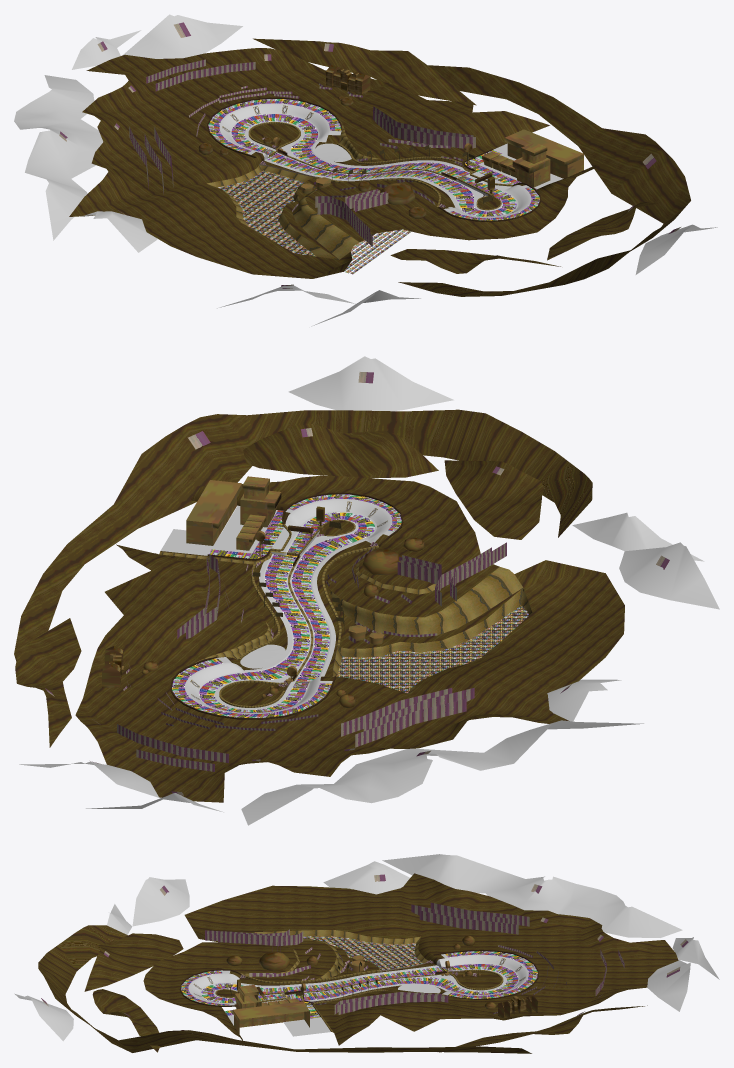
The picture shows the model from 3 angles, top to bottom: view 1: azimuth 30°, elevation 25°; view 2: azimuth 150°, elevation 25°; view 3: azimuth 270°, elevation 25°; orthographic projection. The views are drawn at different scales.
Visible parts, largest first — view 1: default_object (×26); view 2: default_object (×31); view 3: default_object (×34).
Part boxes in pixels (left/top/right/bottom): default_object (×26): left=14, top=14, right=717, bottom=296; default_object (×31): left=14, top=356, right=719, bottom=825; default_object (×34): left=14, top=854, right=719, bottom=1053.
Size of the model in its own units: 3820012 by 5251693 by 460658.
